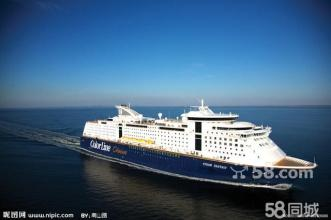youlun: (81, 103, 317, 189)
